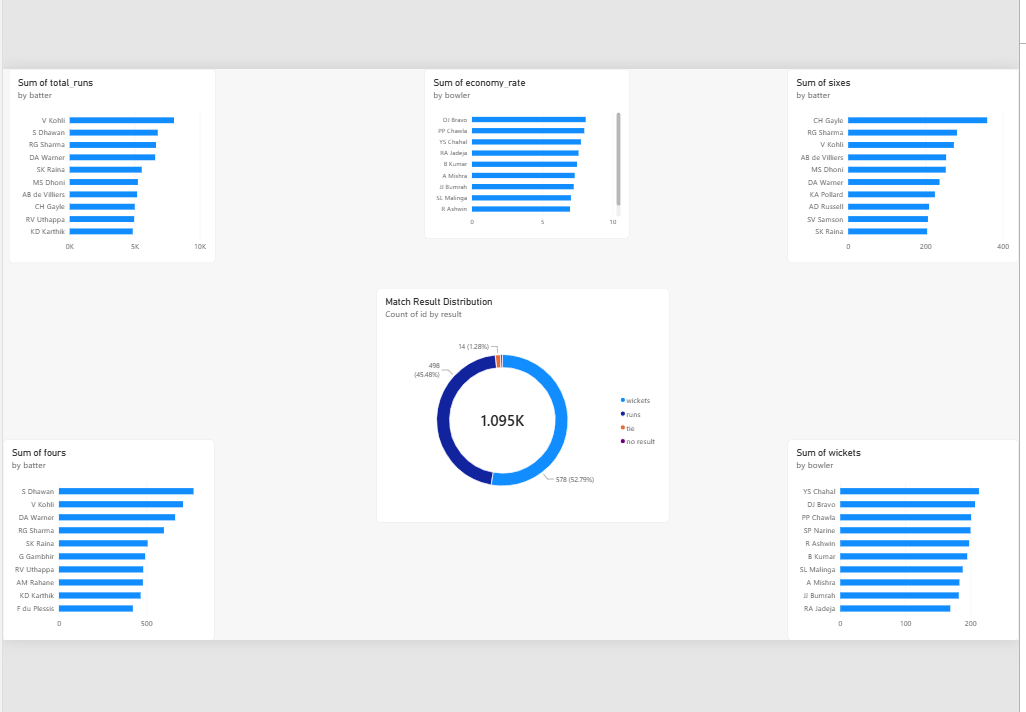

The dashboard page shown, as its layout file describes it:
{"tool":"powerbi","page":{"name":"PLAYER ANALYSIS","canvas":[1920,1080],"ordinal":1},"visuals":[{"type":"clusteredBarChart","fields":{"Category":["public batting_performance.batter"],"Y":["Sum(public batting_performance.total_runs)"]},"box":[10,0,390,366.7],"z":0},{"type":"clusteredBarChart","fields":{"Category":["public batting_performance.batter"],"Y":["Sum(public batting_performance.sixes)"]},"box":[1483.3,0,436.7,366.7],"z":1},{"type":"clusteredBarChart","fields":{"Category":["public batting_performance.batter"],"Y":["Sum(public batting_performance.fours)"]},"box":[0,700,400,380],"z":2},{"type":"clusteredBarChart","fields":{"Category":["public bowling_performance.bowler"],"Y":["Sum(public bowling_performance.economy_rate)"]},"box":[796.7,0,388,320],"z":3},{"type":"clusteredBarChart","fields":{"Category":["public bowling_performance.bowler"],"Y":["Sum(public bowling_performance.wickets)"]},"box":[1483.3,700,436.7,380],"z":4},{"type":"donutChart","title":"Match Result Distribution","fields":{"Category":["public matches.result"],"Y":["CountNonNull(public matches.id)"]},"box":[706.7,413.3,553.3,443.3],"z":5}]}

Visuals, with their boxes on the page's 1920x1080 design canvas (x1, y1, x2, y2). These are canvas units, not pixel positions in the 1026x712 screenshot, which may show the page scaled, cropped or inside an application window:
clusteredBarChart - public batting_performance.batter x Sum(public batting_performance.total_runs): {"left": 10, "top": 0, "right": 400, "bottom": 367}
clusteredBarChart - public batting_performance.batter x Sum(public batting_performance.sixes): {"left": 1483, "top": 0, "right": 1920, "bottom": 367}
clusteredBarChart - public batting_performance.batter x Sum(public batting_performance.fours): {"left": 0, "top": 700, "right": 400, "bottom": 1080}
clusteredBarChart - public bowling_performance.bowler x Sum(public bowling_performance.economy_rate): {"left": 797, "top": 0, "right": 1185, "bottom": 320}
clusteredBarChart - public bowling_performance.bowler x Sum(public bowling_performance.wickets): {"left": 1483, "top": 700, "right": 1920, "bottom": 1080}
"Match Result Distribution" donutChart: {"left": 707, "top": 413, "right": 1260, "bottom": 857}
